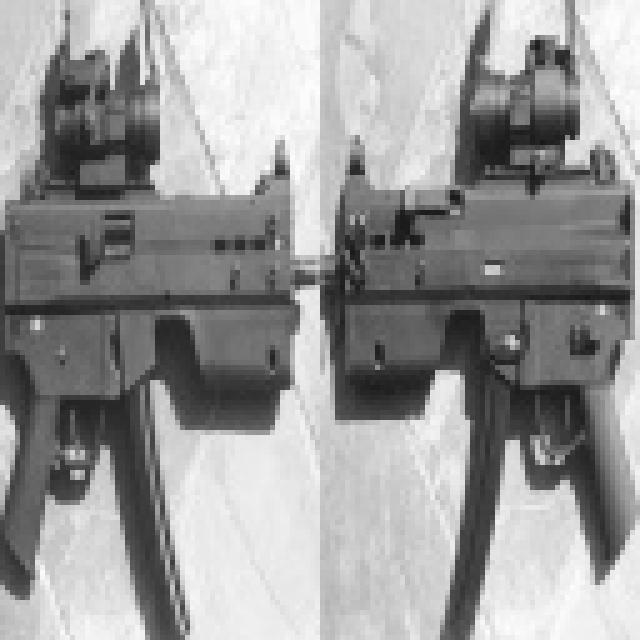Rifle: (0, 0, 318, 640), (330, 25, 640, 640)
